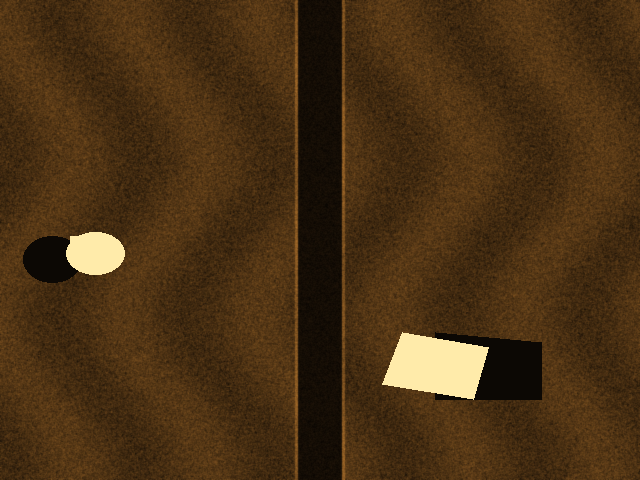Plastic Debris: (66, 232, 124, 274)
Unknown Anomaly: (382, 332, 488, 399)
